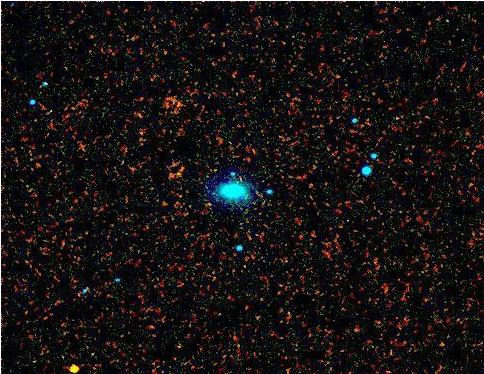star: (57, 353, 87, 374)
